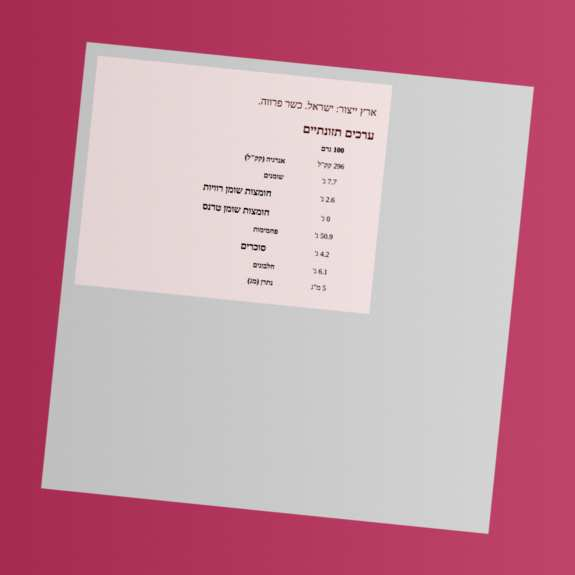carbs: (313, 230, 334, 242)
energy: (316, 159, 346, 172)
fat: (321, 176, 338, 187)
protein: (311, 266, 329, 277)
